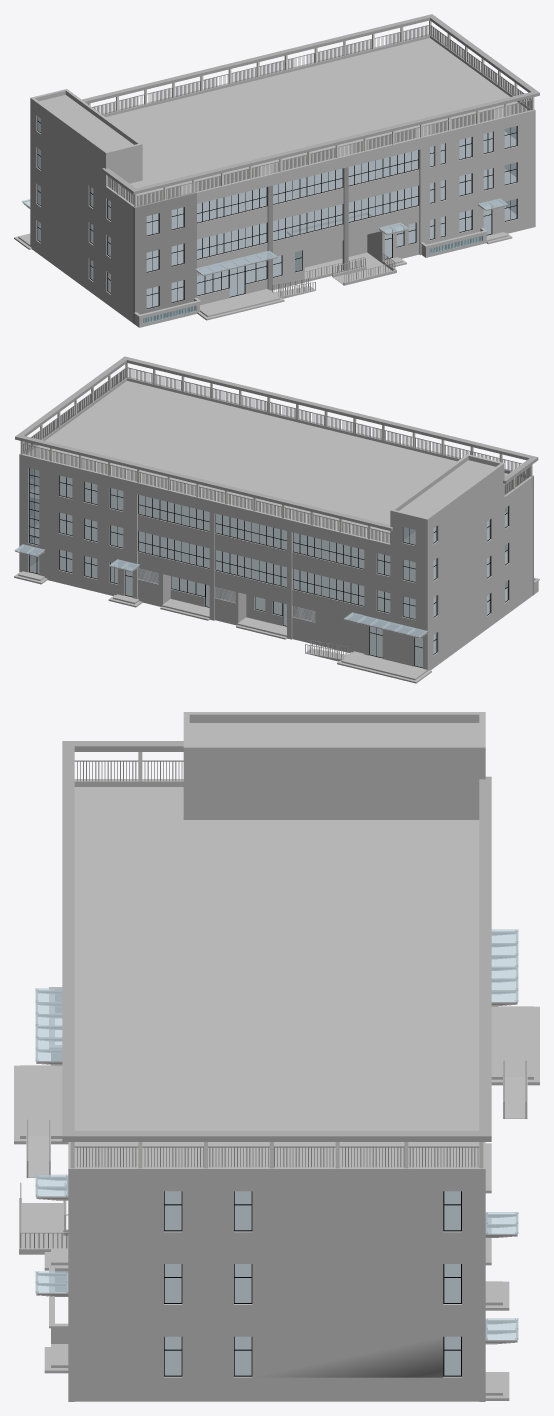
File: 大厅外部.fbx
3 renders of one model, top to bottom at view 1: azimuth 30°, elevation 25°; view 2: azimuth 150°, elevation 25°; view 3: azimuth 270°, elevation 25°, orthographic. The views are drawn at different scales.
Visible parts, largest first — view 1: Obj3d66-1371392-1472-739; view 2: Obj3d66-1371392-1472-739; view 3: Obj3d66-1371392-1472-739.
Boxes of the visible parts, x1,y1,x2,y2 form: Obj3d66-1371392-1472-739: [14, 14, 539, 327]; Obj3d66-1371392-1472-739: [14, 356, 539, 683]; Obj3d66-1371392-1472-739: [14, 712, 539, 1401].
Size of the model in its own units: 280 by 99.4 by 158.
